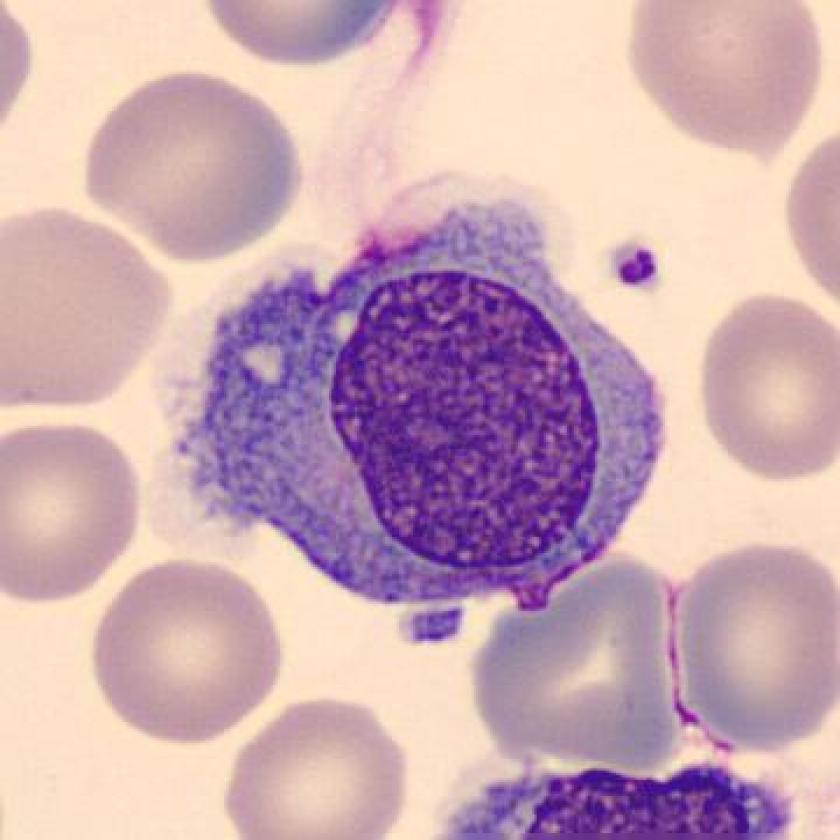monocyte: (134, 179, 692, 668)
